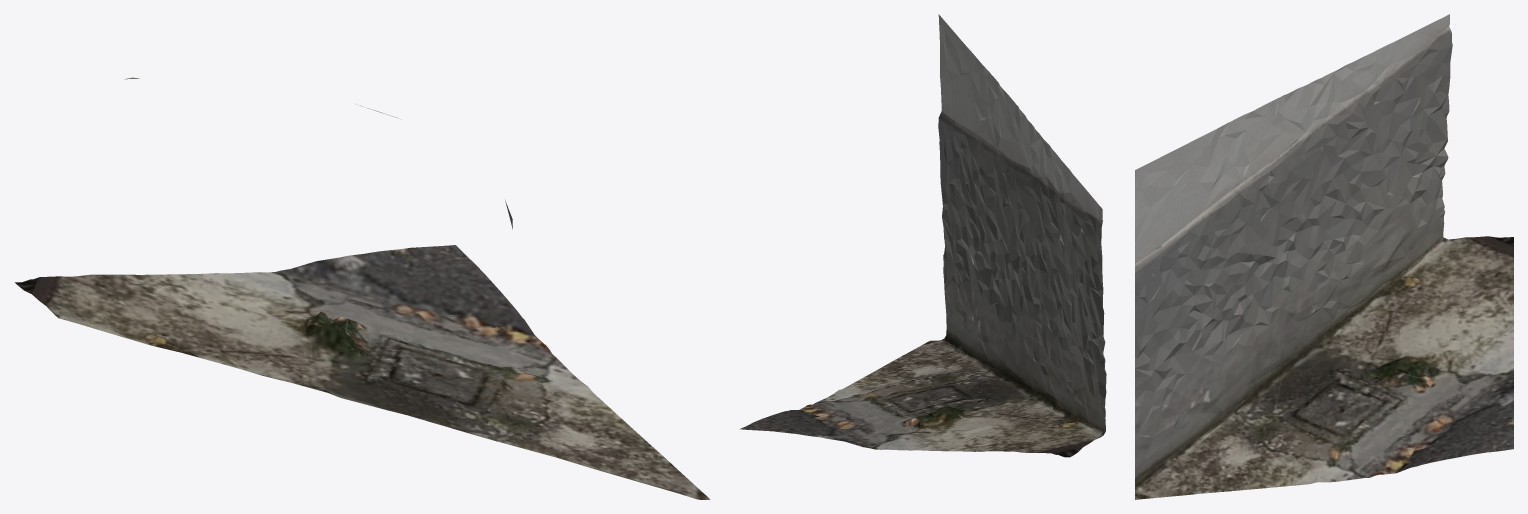
The picture shows the model from 3 angles, left to right: view 1: azimuth 30°, elevation 25°; view 2: azimuth 150°, elevation 25°; view 3: azimuth 270°, elevation 25°; orthographic projection. The views are drawn at different scales.
Size of the model in its own units: 1.67 by 1.67 by 1.67.
Materials: 4 (4 with a texture image).
